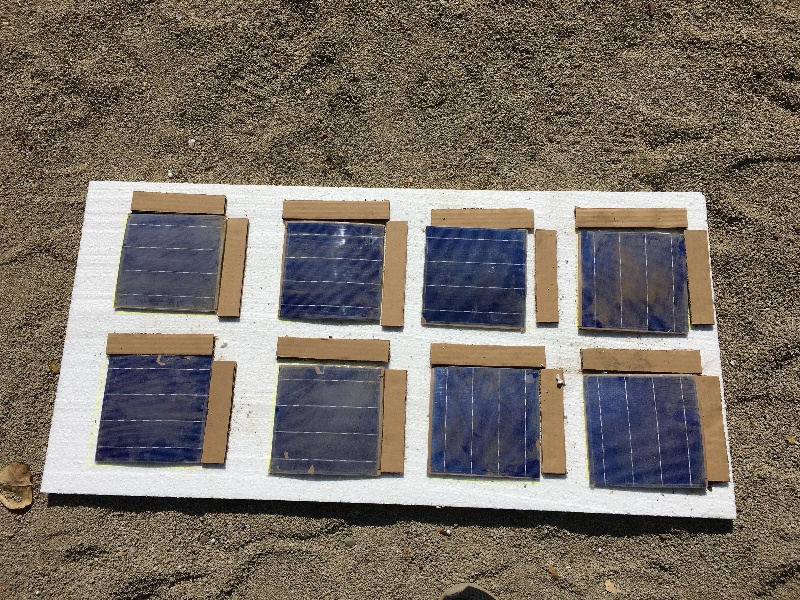dirty: (576, 223, 691, 342), (275, 359, 388, 479), (111, 212, 222, 317)
semi: (578, 373, 714, 490), (432, 363, 547, 482), (417, 223, 535, 335), (93, 353, 209, 464), (278, 220, 381, 322)
